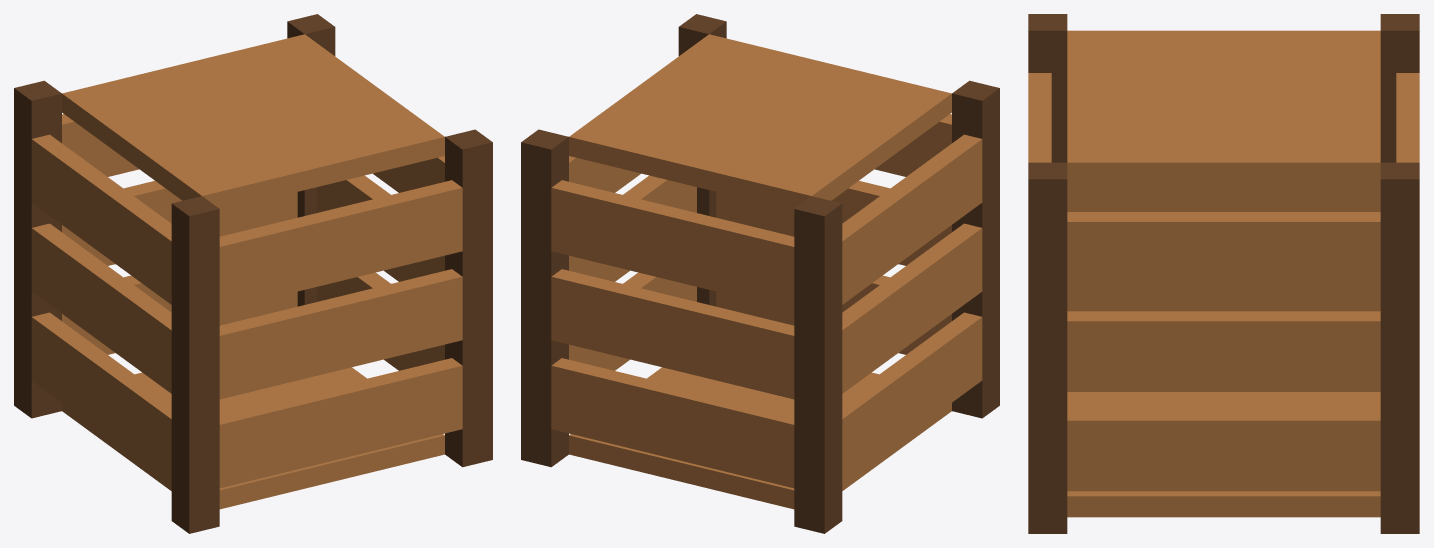
The model's file is crate.glb.
3 views of the same model, side by side, from view 1: azimuth 30°, elevation 25°; view 2: azimuth 150°, elevation 25°; view 3: azimuth 270°, elevation 25° (orthographic). The views are drawn at different scales.
Parts seen in each view (by area): view 1: Crate; view 2: Crate; view 3: Crate.
Part boxes in pixels (x1,y1,x2,y2): Crate: (14, 14, 492, 533); Crate: (521, 14, 999, 533); Crate: (1028, 14, 1419, 533).
Size of the model in its own units: 1 by 1 by 1.
